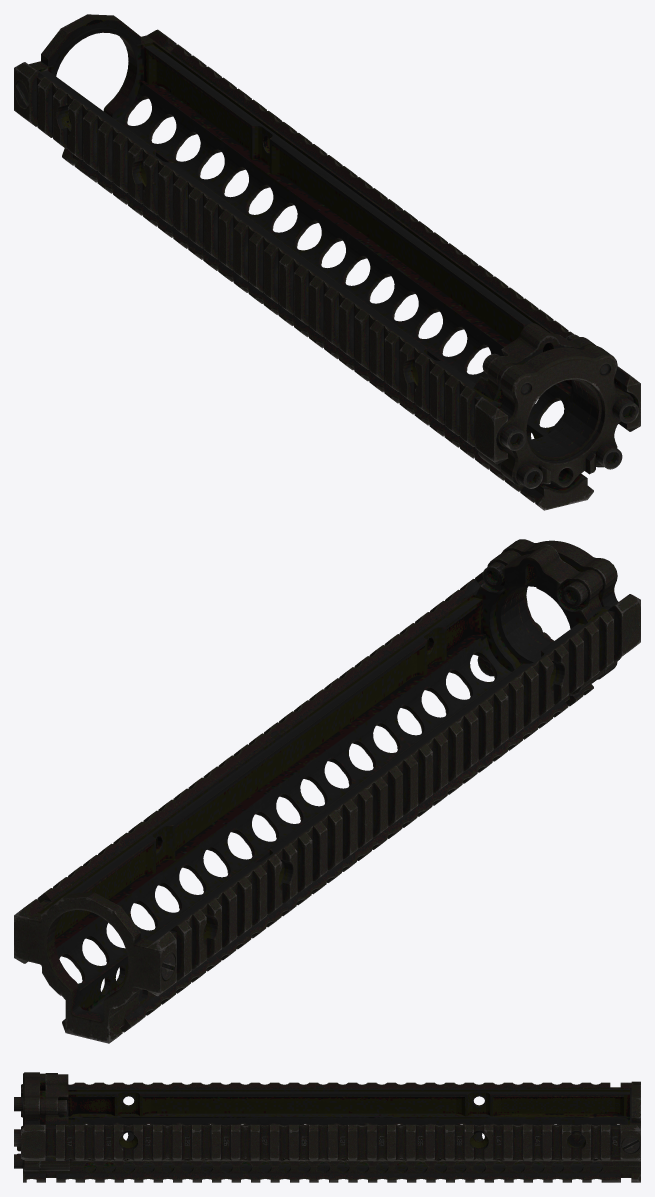
3 renders of one model, top to bottom at view 1: azimuth 30°, elevation 25°; view 2: azimuth 150°, elevation 25°; view 3: azimuth 270°, elevation 25°, orthographic. The views are drawn at different scales.
Parts seen in each view (by area): view 1: TW_5c9a25172e2216000f20314e_PZ_Import; view 2: TW_5c9a25172e2216000f20314e_PZ_Import; view 3: TW_5c9a25172e2216000f20314e_PZ_Import.
Boxes of the visible parts, bbox=[...] form: TW_5c9a25172e2216000f20314e_PZ_Import: bbox=[14, 14, 640, 510]; TW_5c9a25172e2216000f20314e_PZ_Import: bbox=[14, 539, 640, 1043]; TW_5c9a25172e2216000f20314e_PZ_Import: bbox=[14, 1072, 640, 1182].
Bounding box in the file's own units: 0.0325 × 0.186 × 0.033.
1 material, 1 textured.
